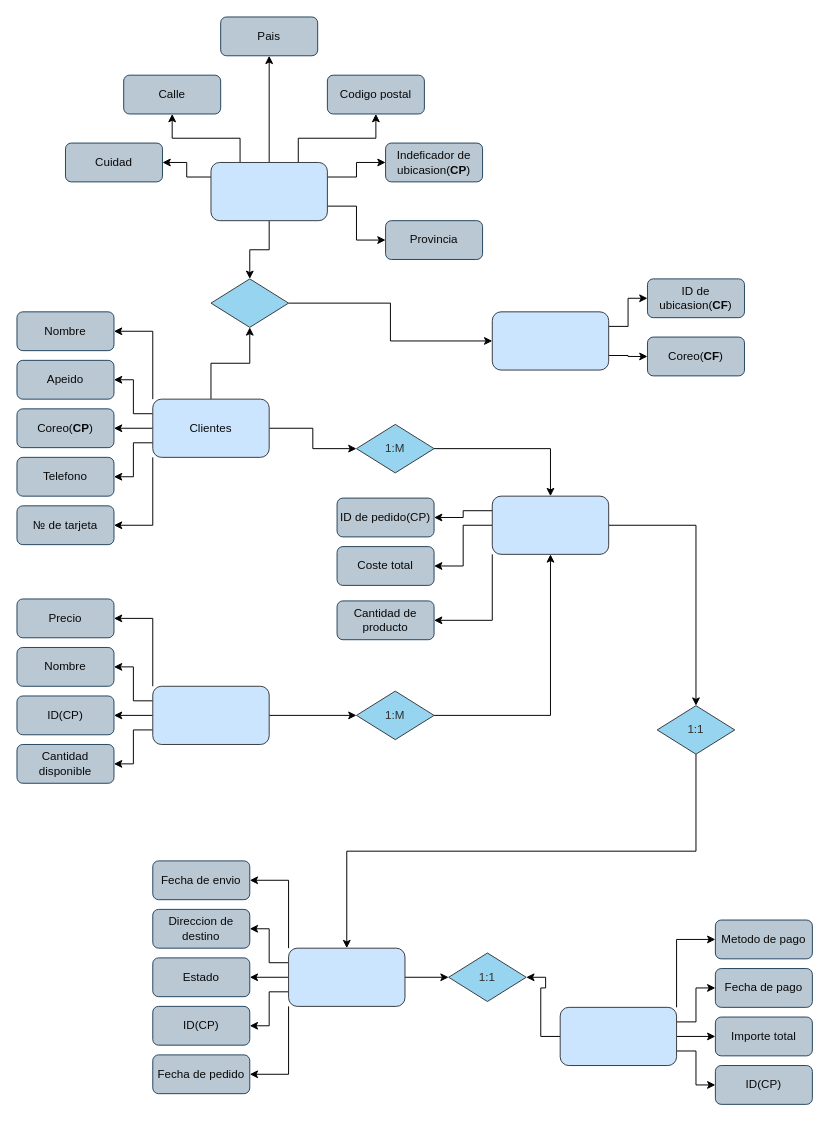
Image size: 829x1121. Some labels were removed from this diagram. Here are the shapes that lost their labels. From the top down, the centre of each, then its label:
At (268,191): "Direccion".
At (249,302): "N:M".
At (550,524): "Pedidos".
At (210,714): "Productos".
At (346,976): "Envios".
At (618,1036): "Pagos".
